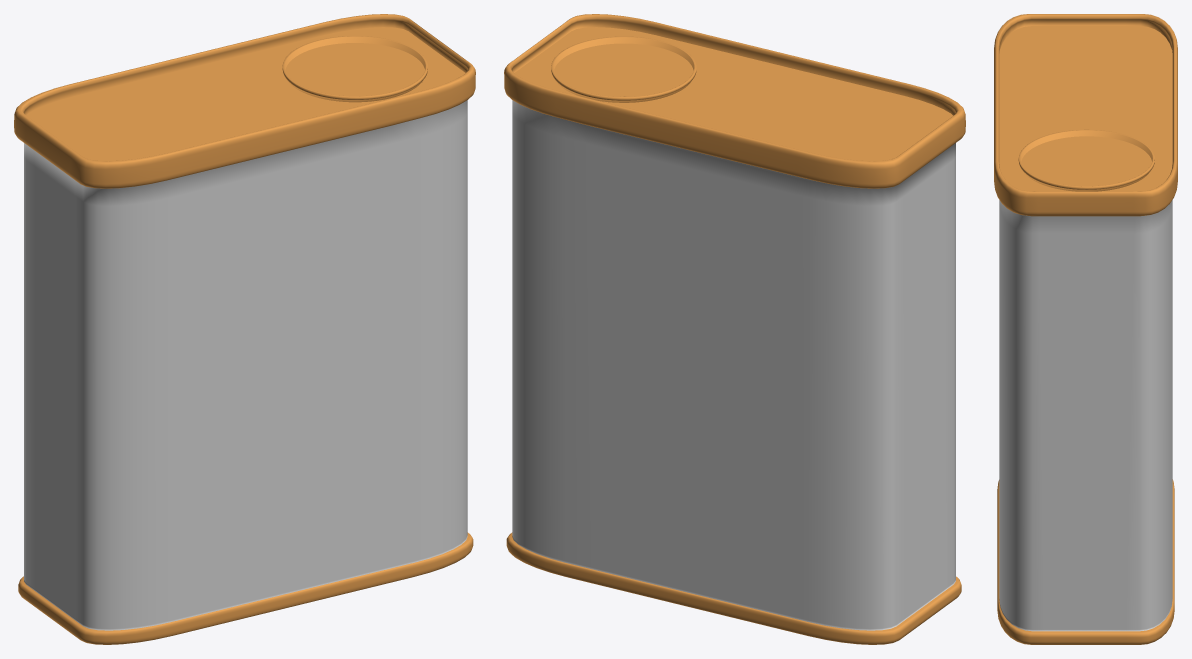
The model's file is Sakuma Drops 2.fbx.
3 views of the same model, side by side, from view 1: azimuth 30°, elevation 25°; view 2: azimuth 150°, elevation 25°; view 3: azimuth 270°, elevation 25° (orthographic). The views are drawn at different scales.
Visible parts, largest first — view 1: Cube, Cylinder.001; view 2: Cube, Cylinder.001; view 3: Cube, Cylinder.001.
Boxes of the visible parts, bbox=[...] form: Cube: bbox=[14, 14, 475, 644]; Cylinder.001: bbox=[282, 36, 427, 102]; Cube: bbox=[504, 14, 965, 644]; Cylinder.001: bbox=[551, 36, 696, 102]; Cube: bbox=[994, 14, 1177, 644]; Cylinder.001: bbox=[1018, 129, 1154, 191].
Size of the model in its own units: 406 by 478 by 175.
